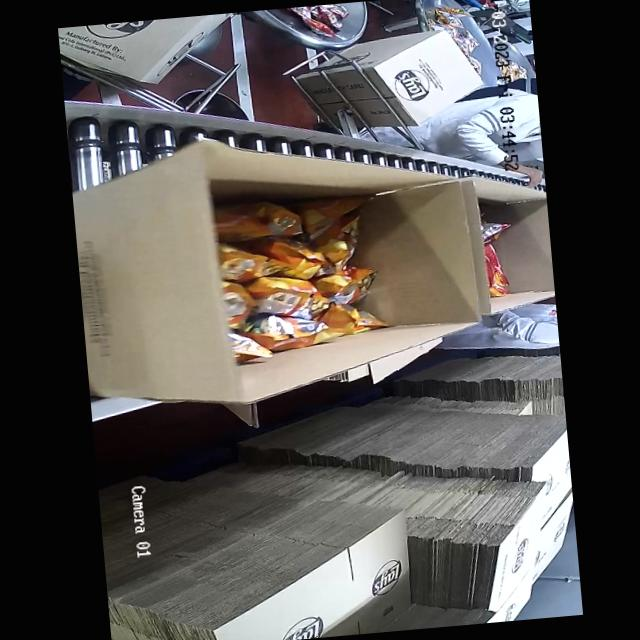cheese: (210, 190, 382, 354)
masala: (473, 192, 512, 300)
